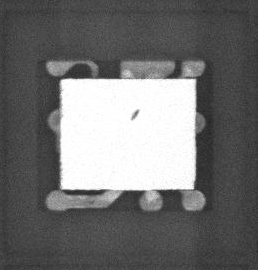DIE_INK: (124, 114, 135, 127)
